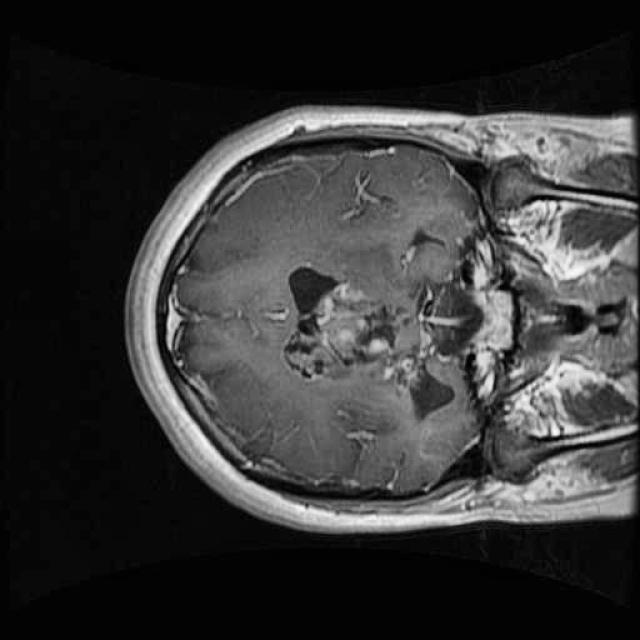Non-Tumor: (260, 233, 470, 448)
